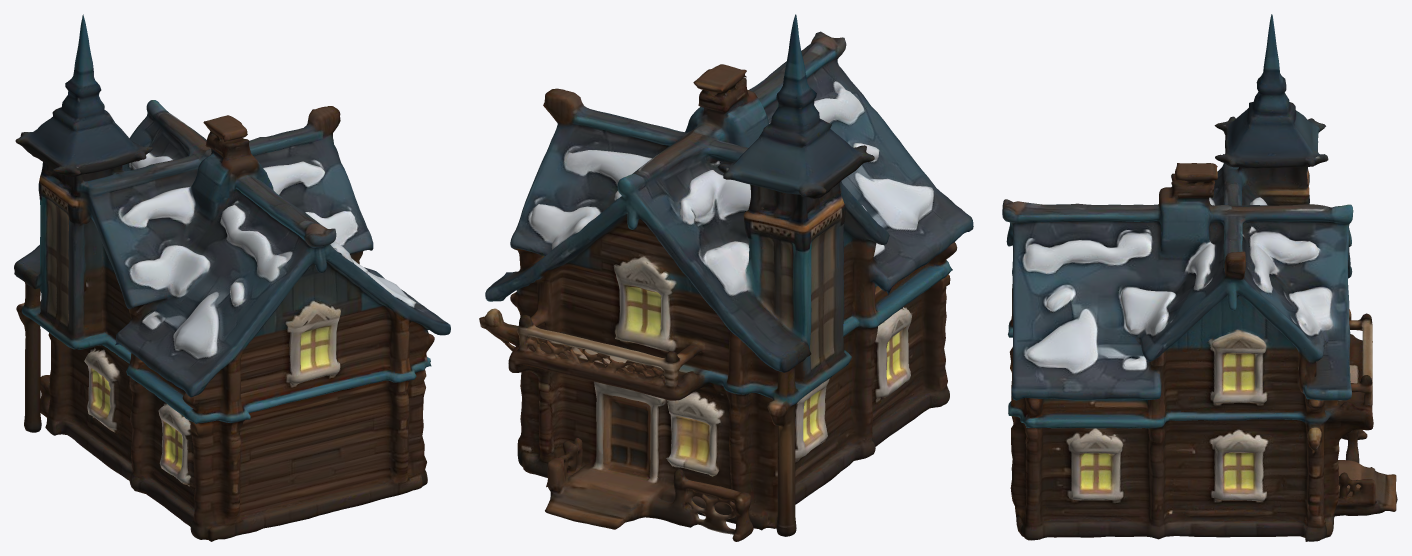
Rendered from tomsk_wooden_dragons.glb.
The picture shows the model from 3 angles, left to right: view 1: azimuth 30°, elevation 25°; view 2: azimuth 150°, elevation 25°; view 3: azimuth 270°, elevation 25°; orthographic projection. The views are drawn at different scales.
Visible parts, largest first — view 1: tripo_node_5668c8d2-4430-4f79-9dbd-80bfe2dd88ae; view 2: tripo_node_5668c8d2-4430-4f79-9dbd-80bfe2dd88ae; view 3: tripo_node_5668c8d2-4430-4f79-9dbd-80bfe2dd88ae.
Boxes of the visible parts, x1,y1,x2,y2 form: tripo_node_5668c8d2-4430-4f79-9dbd-80bfe2dd88ae: (14,14,450,541); tripo_node_5668c8d2-4430-4f79-9dbd-80bfe2dd88ae: (479,14,973,541); tripo_node_5668c8d2-4430-4f79-9dbd-80bfe2dd88ae: (1002,14,1397,541).
Bounding box in the file's own units: 0.7246 × 0.9775 × 0.8269.
1 material, 1 textured.
